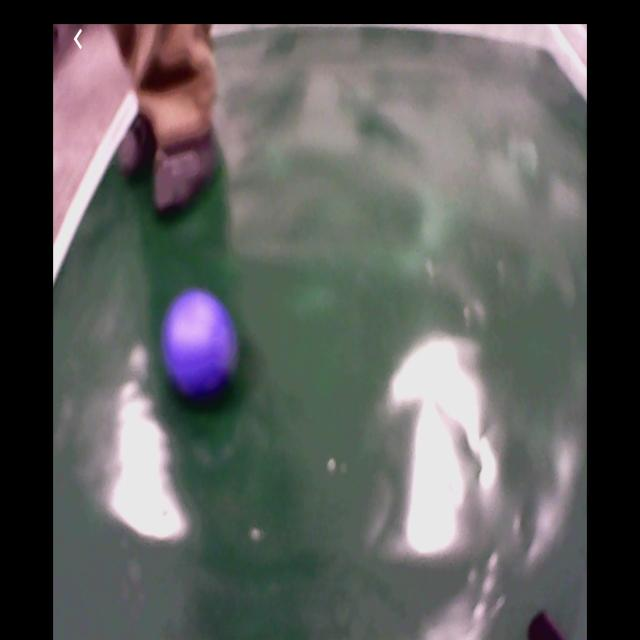ball: (165, 290, 235, 405)
